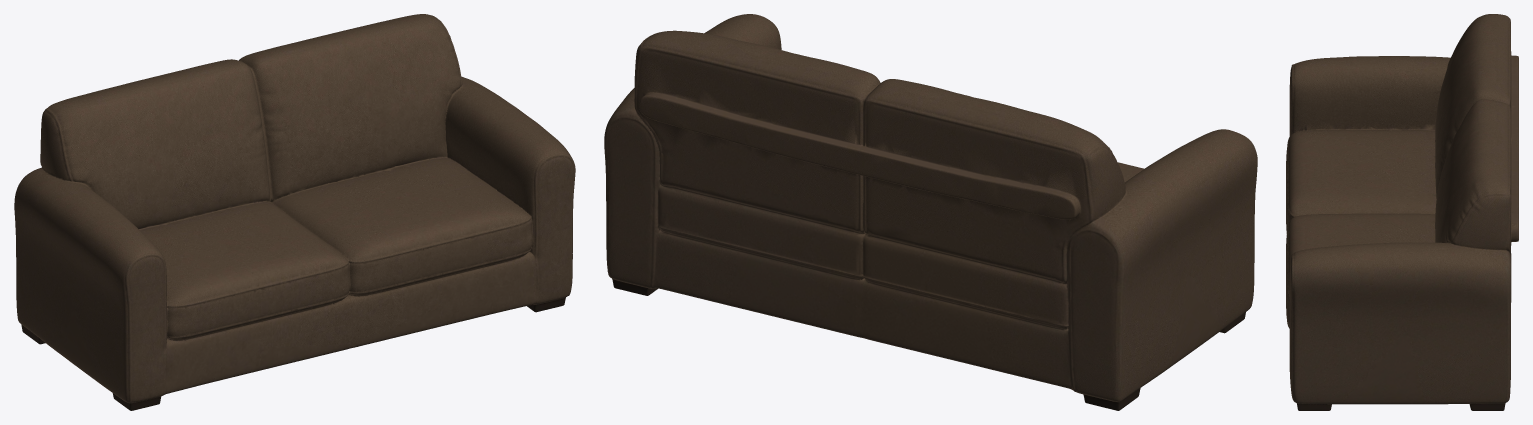
The picture shows the model from 3 angles, left to right: view 1: azimuth 30°, elevation 25°; view 2: azimuth 150°, elevation 25°; view 3: azimuth 270°, elevation 25°; orthographic projection. The views are drawn at different scales.
Parts seen in each view (by area): view 1: mesh_node; view 2: mesh_node; view 3: mesh_node.
Boxes of the visible parts, box(x1,y1,x2,y2) form: mesh_node: box(14, 14, 575, 410); mesh_node: box(604, 14, 1257, 410); mesh_node: box(1286, 14, 1518, 410).
Size of the model in its own units: 1.9 by 0.9072 by 0.8837.
Materials: 1 (1 with a texture image).
